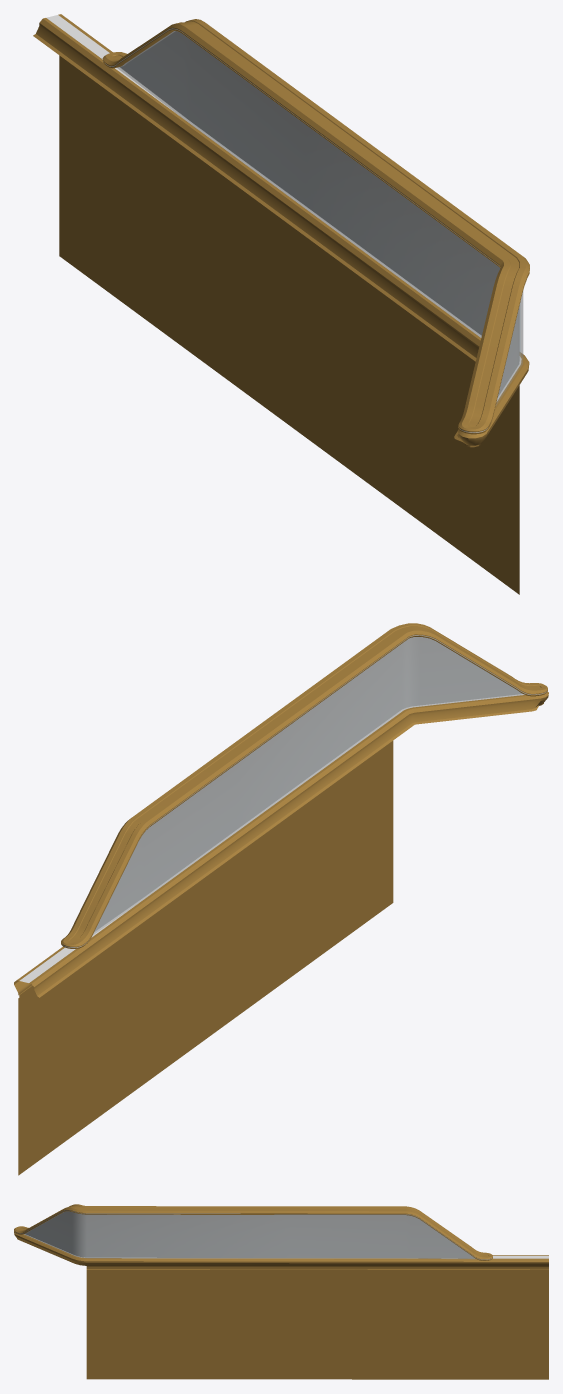
File: SideWallFixed.fbx
The picture shows the model from 3 angles, top to bottom: view 1: azimuth 30°, elevation 25°; view 2: azimuth 150°, elevation 25°; view 3: azimuth 270°, elevation 25°; orthographic projection. The views are drawn at different scales.
Parts seen in each view (by area): view 1: Circle.004; view 2: Circle.004; view 3: Circle.004.
Boxes of the visible parts, box(x1,y1,x2,y2) form: Circle.004: box(33, 14, 529, 594); Circle.004: box(14, 623, 548, 1175); Circle.004: box(14, 1204, 548, 1379).
Bounding box in the file's own units: 848 × 2029 × 5819.
